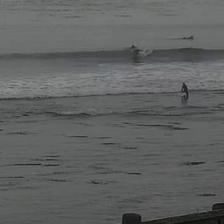surfer: (183, 36, 193, 40), (130, 44, 137, 49)
